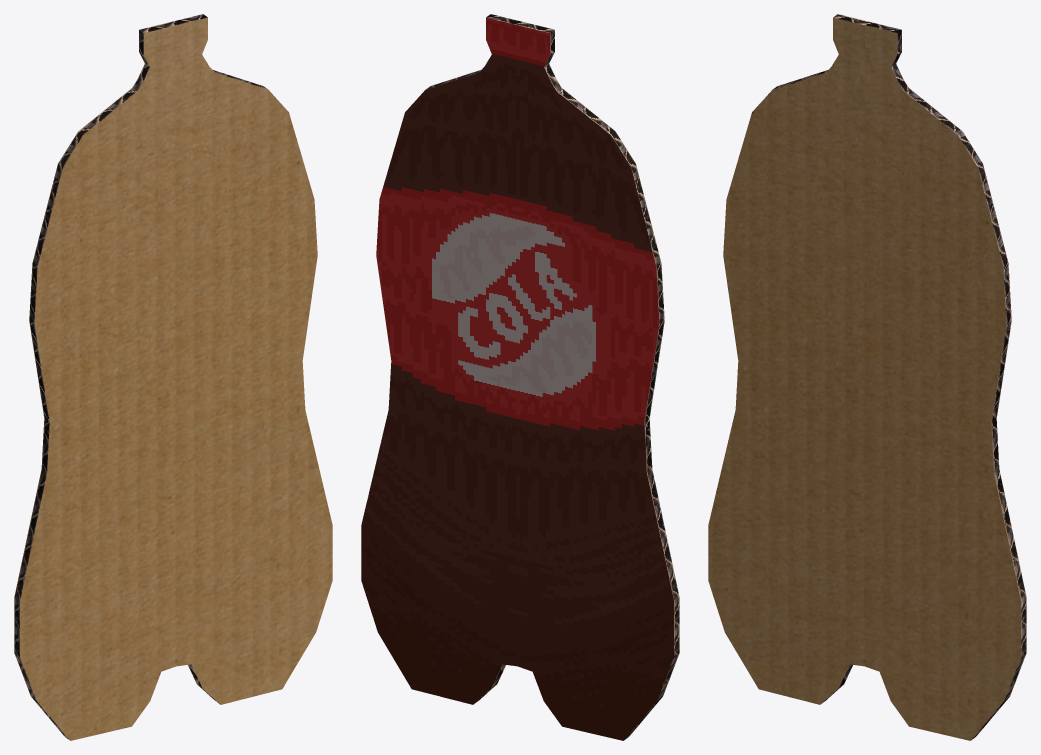
The model's file is CROTOCOLA.glb.
3 views of the same model, side by side, from view 1: azimuth 30°, elevation 25°; view 2: azimuth 150°, elevation 25°; view 3: azimuth 330°, elevation 25° (orthographic).
Parts seen in each view (by area): view 1: CROTOCOLA; view 2: CROTOCOLA; view 3: CROTOCOLA.
Part boxes in pixels (left/top/right/bottom): CROTOCOLA: left=14, top=14, right=332, bottom=740; CROTOCOLA: left=361, top=14, right=679, bottom=740; CROTOCOLA: left=708, top=14, right=1026, bottom=740.
Bounding box in the file's own units: 2.67 × 5.62 × 0.0861.
Materials: 1 (1 with a texture image).
